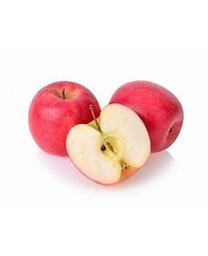apple: (66, 103, 150, 185), (27, 80, 100, 156), (109, 81, 184, 153)
